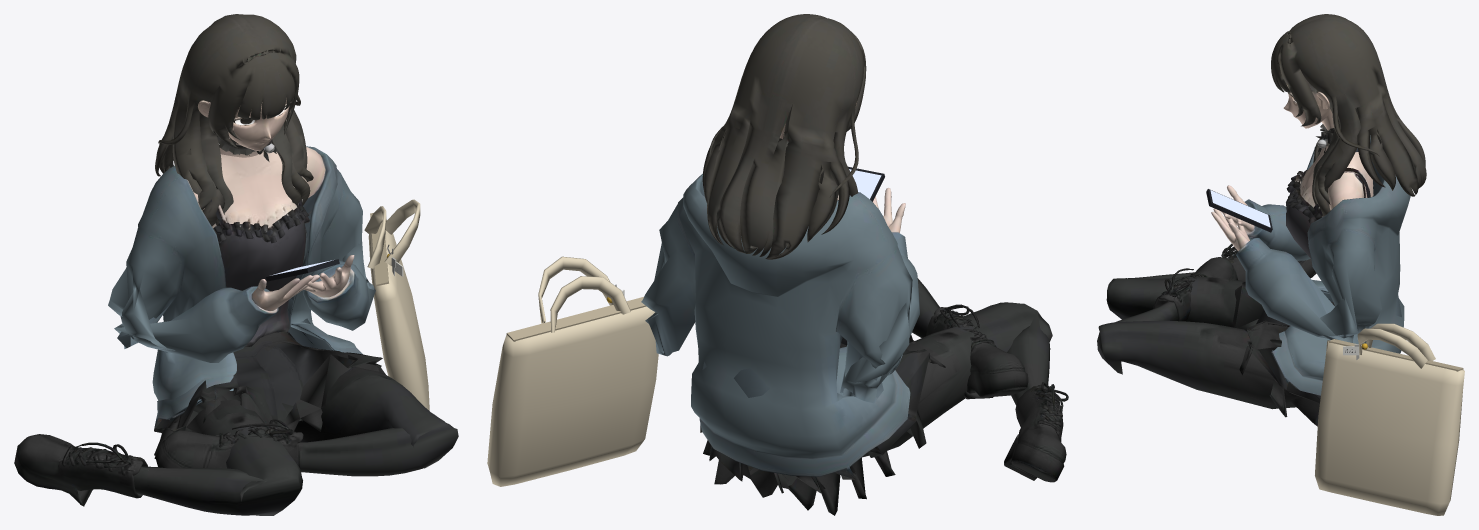
Rendered from npc_nao_sit.glb.
The picture shows the model from 3 angles, left to right: view 1: azimuth 30°, elevation 25°; view 2: azimuth 150°, elevation 25°; view 3: azimuth 270°, elevation 25°; orthographic projection. The views are drawn at different scales.
Parts seen in each view (by area): view 1: body, face; view 2: body, face; view 3: body, face.
Boxes of the visible parts, left/top/right/bottom form: body: left=14, top=143, right=458, bottom=515; face: left=155, top=14, right=313, bottom=226; body: left=487, top=166, right=1068, bottom=515; face: left=702, top=14, right=866, bottom=259; body: left=1097, top=135, right=1464, bottom=515; face: left=1271, top=14, right=1426, bottom=216.
Size of the model in its own units: 1.02 by 0.9302 by 0.7788.
10 materials, 2 textured.
